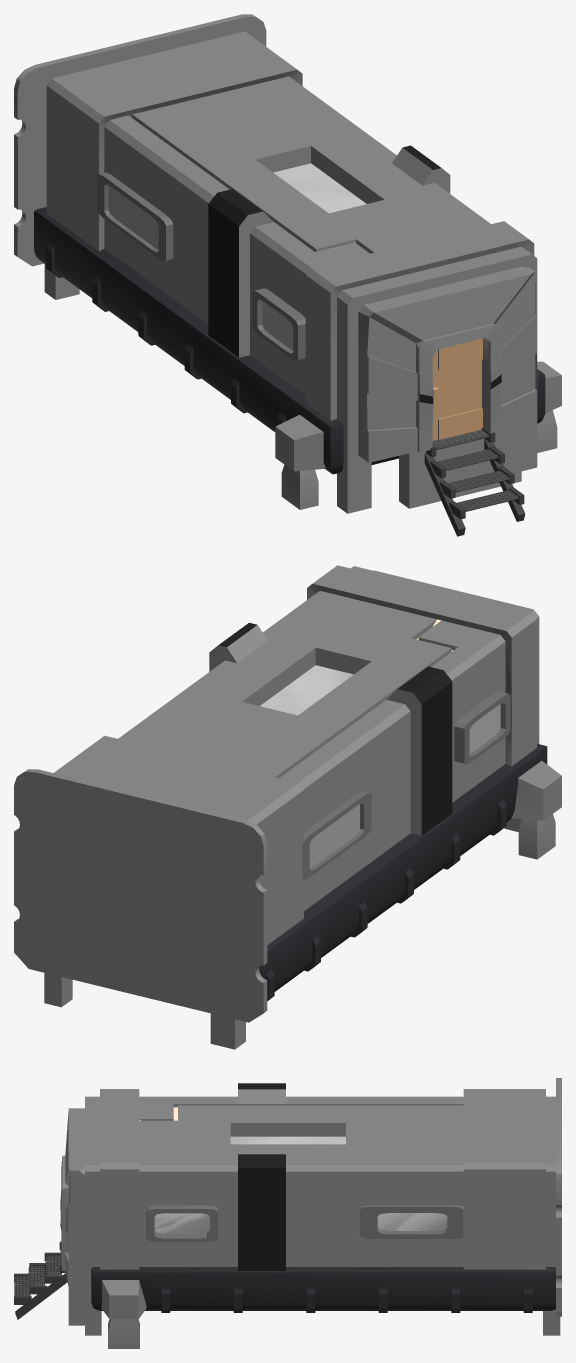
The model's file is House.fbx.
3 renders of one model, top to bottom at view 1: azimuth 30°, elevation 25°; view 2: azimuth 150°, elevation 25°; view 3: azimuth 270°, elevation 25°, orthographic. The views are drawn at different scales.
Visible parts, largest first — view 1: House.001; view 2: House.001; view 3: House.001.
Part boxes in pixels (x1,y1,x2,y2): House.001: [14, 14, 561, 536]; House.001: [14, 565, 561, 1049]; House.001: [14, 1078, 561, 1348].
Size of the model in its own units: 995 by 838 by 2245.
Materials: 10 (1 with a texture image).
